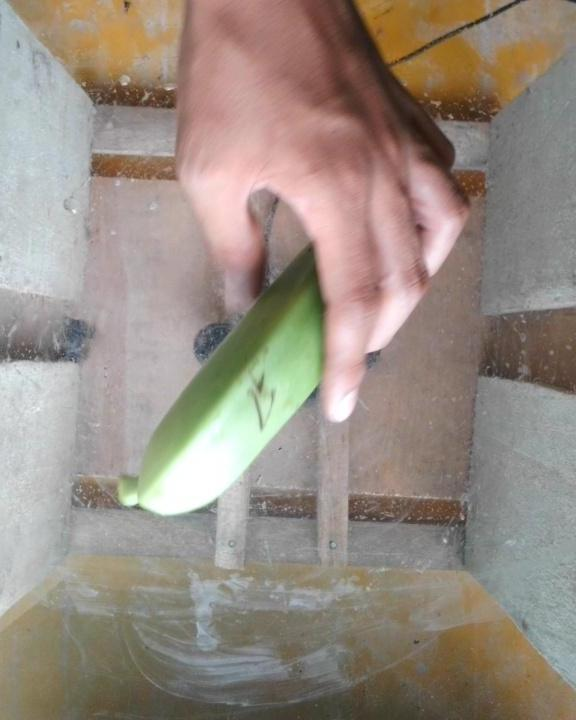CLASS B: (107, 213, 384, 520)
Class A: (234, 351, 285, 433)
